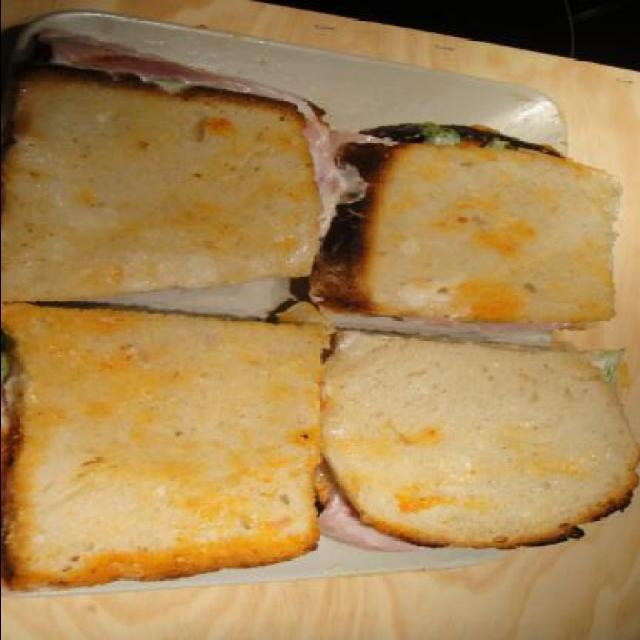Sandwich: (1, 298, 332, 594), (1, 60, 324, 302), (325, 326, 640, 551), (303, 126, 631, 330)
